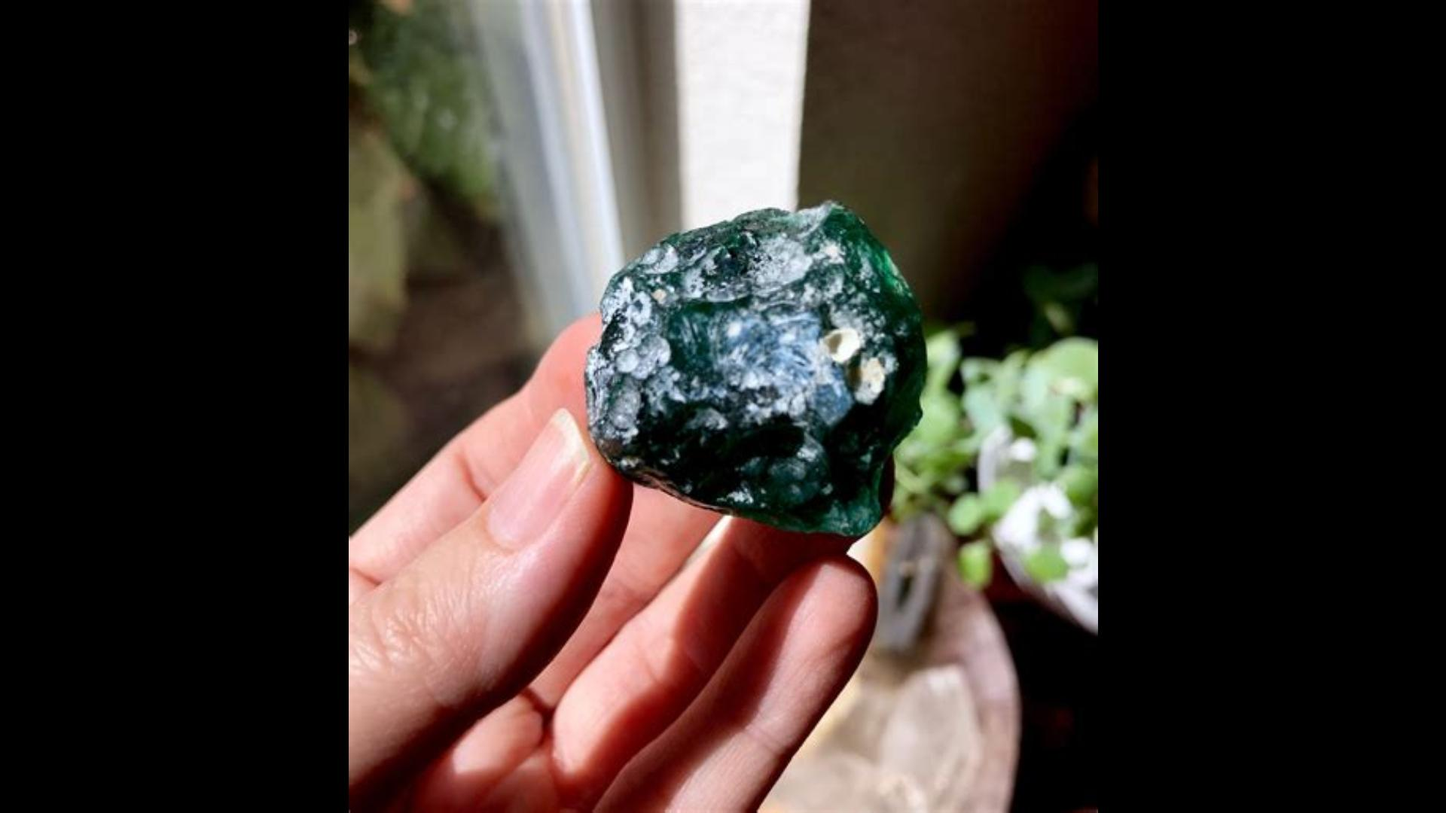rock: (585, 204, 924, 535)
